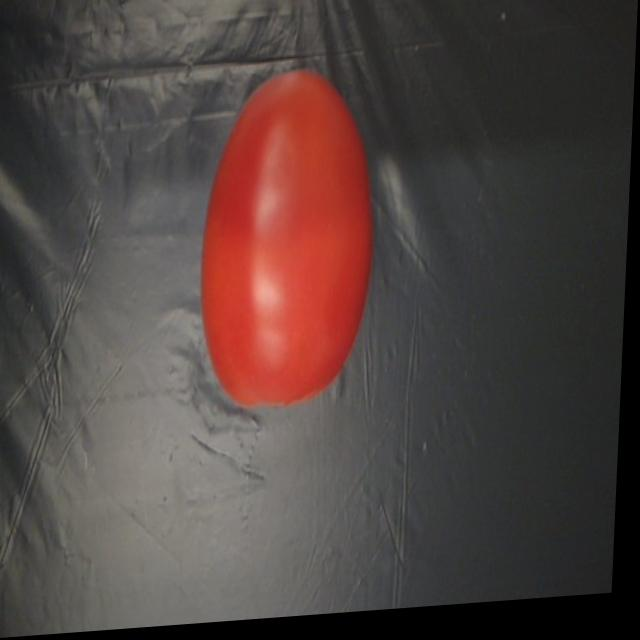kirmizi: (198, 54, 386, 414)
